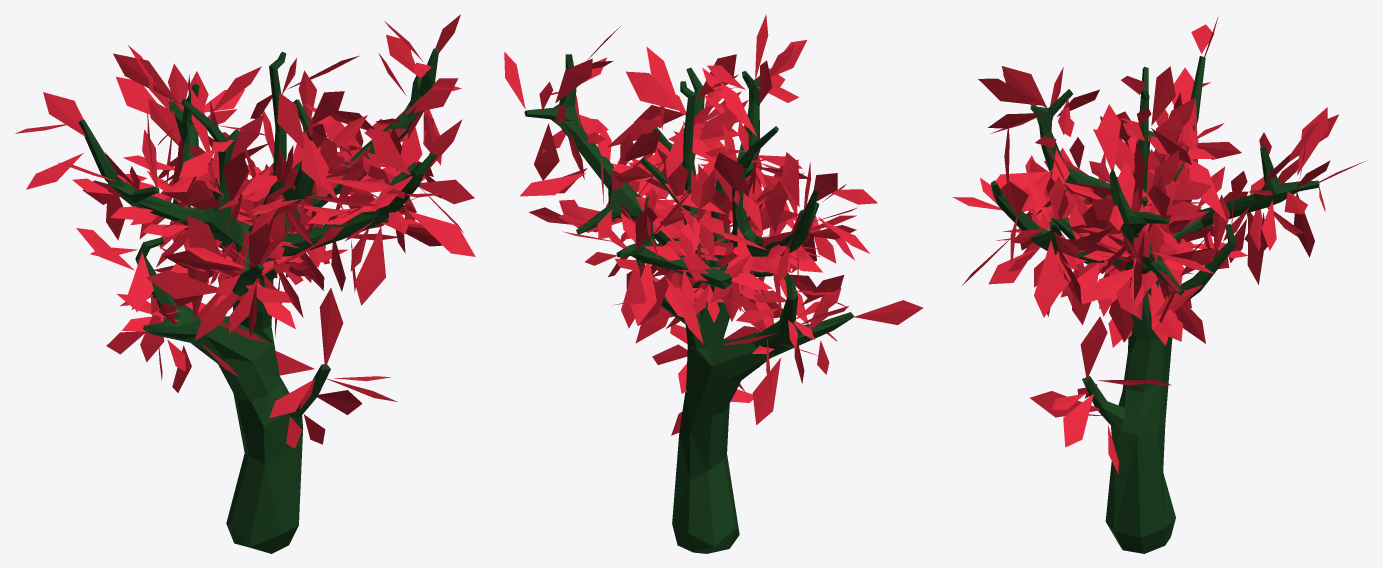
3 views of the same model, side by side, from view 1: azimuth 30°, elevation 25°; view 2: azimuth 150°, elevation 25°; view 3: azimuth 270°, elevation 25° (orthographic). The views are drawn at different scales.
Parts seen in each view (by area): view 1: Drzewo1.001; view 2: Drzewo1.001; view 3: Drzewo1.001.
Boxes of the visible parts, x1,y1,x2,y2 form: Drzewo1.001: (15, 14, 475, 553); Drzewo1.001: (504, 14, 923, 553); Drzewo1.001: (952, 16, 1365, 553).
Bounding box in the file's own units: 1823 × 2138 × 1635.
